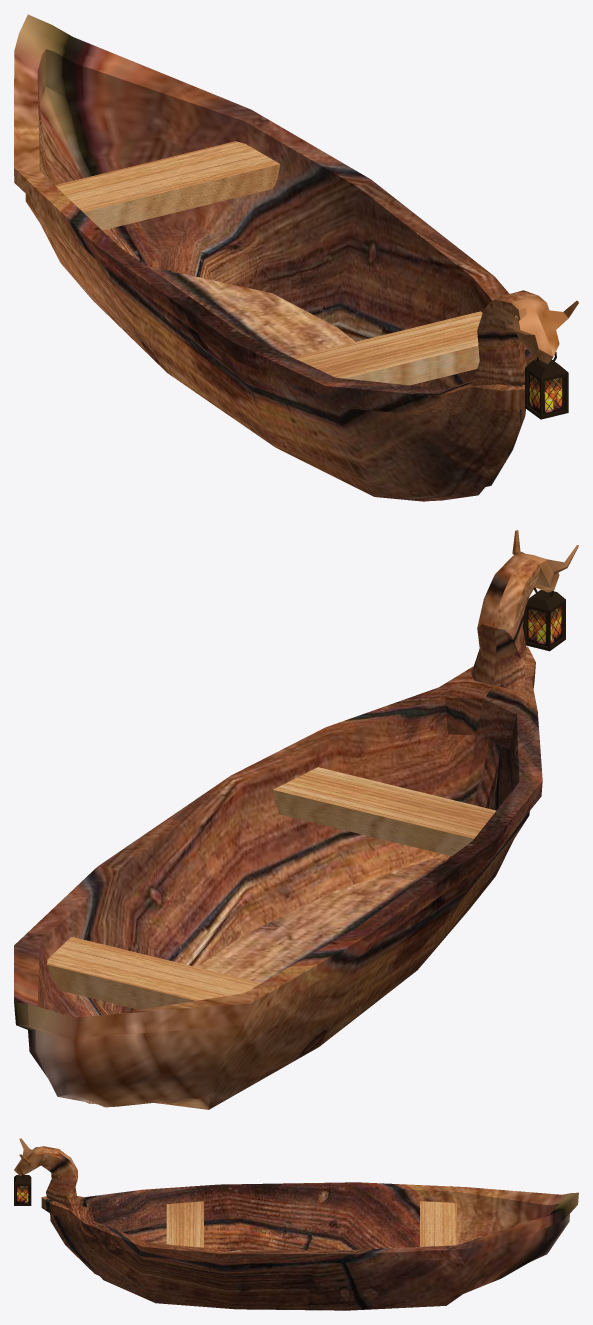
Rendered from boot1seatless.fbx.
The picture shows the model from 3 angles, top to bottom: view 1: azimuth 30°, elevation 25°; view 2: azimuth 150°, elevation 25°; view 3: azimuth 270°, elevation 25°; orthographic projection. The views are drawn at different scales.
Visible parts, largest first — view 1: boot, Seats, Lantern; view 2: boot, Seats, Lantern; view 3: boot, Seats, Lantern.
Part boxes in pixels (bbox=[...]): boot: bbox=[14, 14, 578, 501]; Seats: bbox=[55, 141, 482, 385]; Lantern: bbox=[525, 352, 568, 419]; boot: bbox=[14, 530, 578, 1109]; Seats: bbox=[47, 767, 495, 1009]; Lantern: bbox=[523, 587, 565, 651]; boot: bbox=[14, 1138, 578, 1310]; Seats: bbox=[166, 1201, 456, 1247]; Lantern: bbox=[14, 1173, 31, 1205].
Size of the model in its own units: 368 by 346 by 1223.
